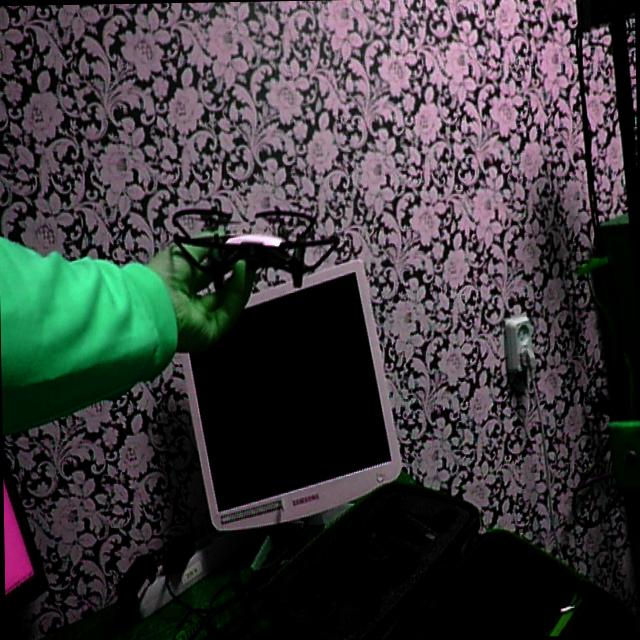drone: (162, 178, 347, 304)
